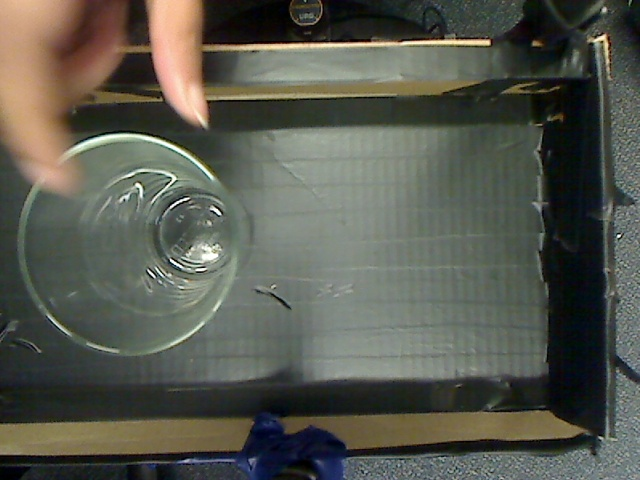cup: (3, 126, 264, 376)
